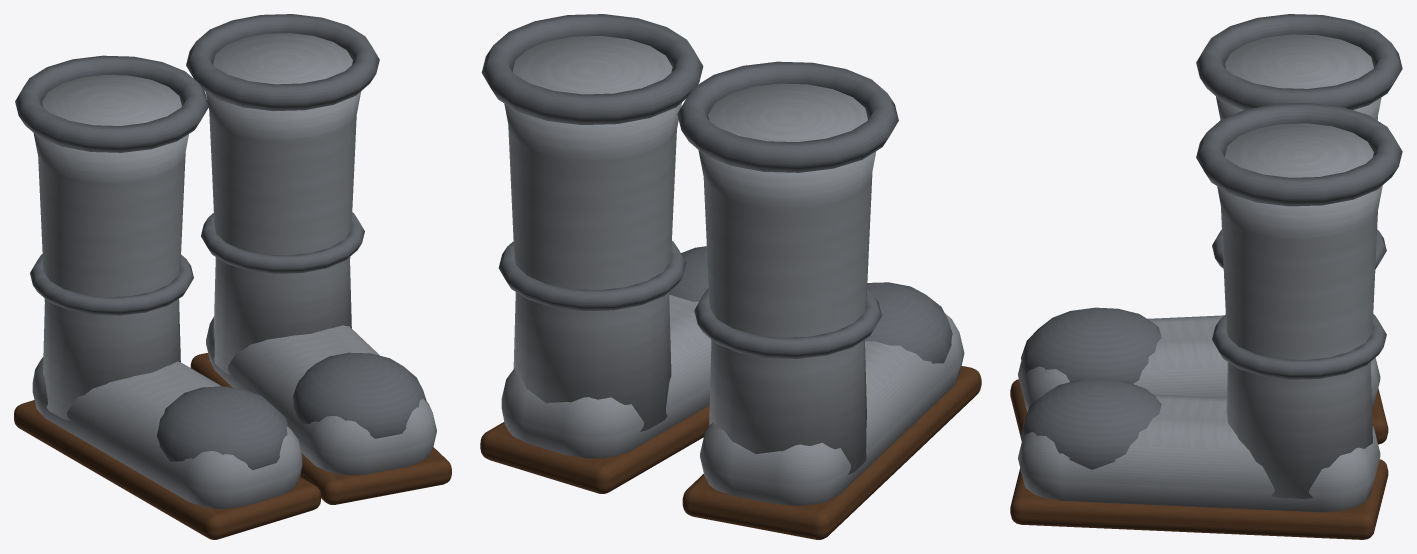
Rendered from boots_plate.glb.
3 renders of one model, left to right at view 1: azimuth 30°, elevation 25°; view 2: azimuth 150°, elevation 25°; view 3: azimuth 270°, elevation 25°, orthographic. The views are drawn at different scales.
Visible parts, largest first — view 1: boot (×2); view 2: boot (×2); view 3: boot (×2).
Part boxes in pixels (x1,y1,x2,y2): boot (×2): (14, 14, 451, 539); boot (×2): (480, 14, 981, 539); boot (×2): (1010, 14, 1402, 539).
Size of the model in its own units: 0.2895 by 0.2807 by 0.2728.
Materials: 3 (3 with a texture image).
